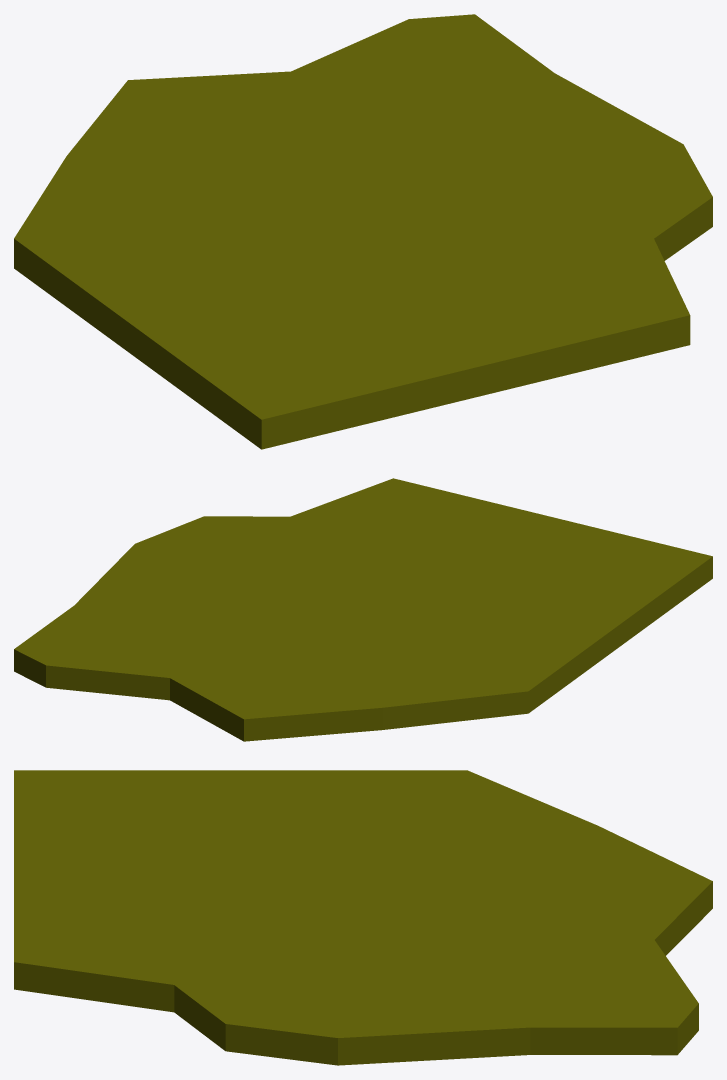
File: x_0_boloto_25_1_rmstrd.fbx
3 views of the same model, one above another, from view 1: azimuth 30°, elevation 25°; view 2: azimuth 150°, elevation 25°; view 3: azimuth 270°, elevation 25° (orthographic). The views are drawn at different scales.
Parts seen in each view (by area): view 1: x_0_boloto_25_1_rmstrd1; view 2: x_0_boloto_25_1_rmstrd1; view 3: x_0_boloto_25_1_rmstrd1.
Part boxes in pixels (x1,y1,x2,y2): x_0_boloto_25_1_rmstrd1: (14,14,712,449); x_0_boloto_25_1_rmstrd1: (14,478,712,741); x_0_boloto_25_1_rmstrd1: (14,770,712,1065).
Size of the model in its own units: 4.19 by 0.2 by 4.62.
